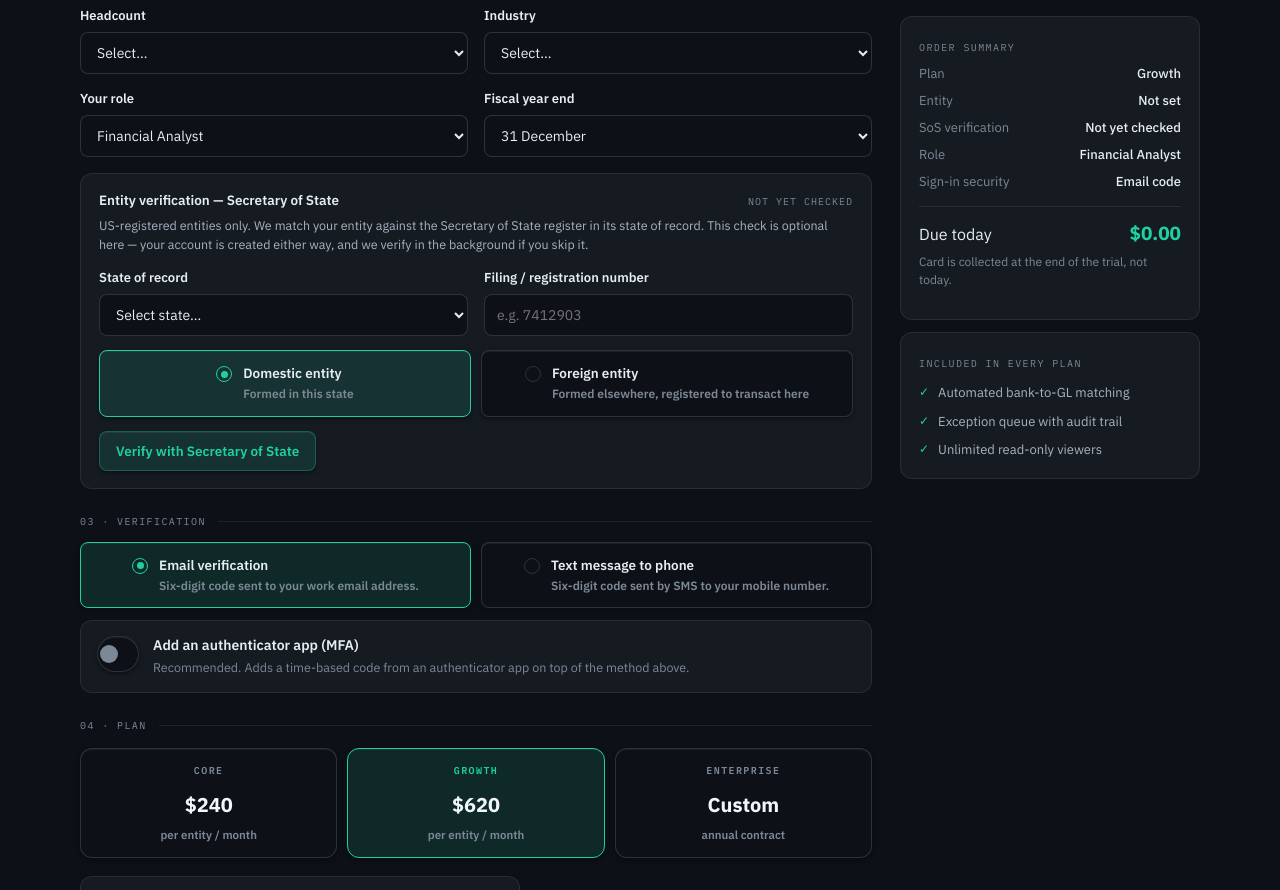
Secretary of State entity verification › blocks the check when the legal entity name is missing
(page scrolled)
Click the button "Verify with Secretary of State" at (208, 451), box [99,431,316,471]
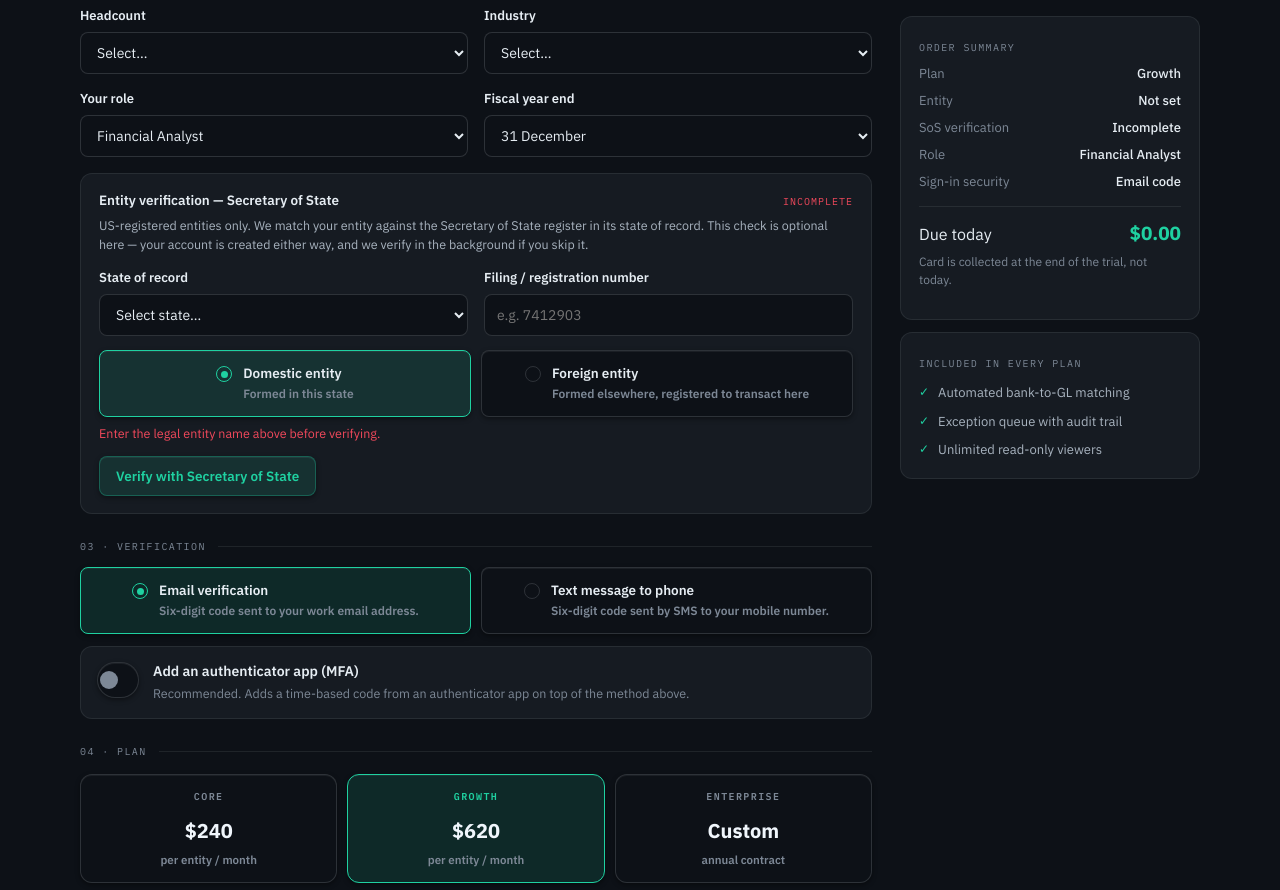
Expected: the text "Enter the legal entity name above before verifying." is shown, [99,425,380,441]
